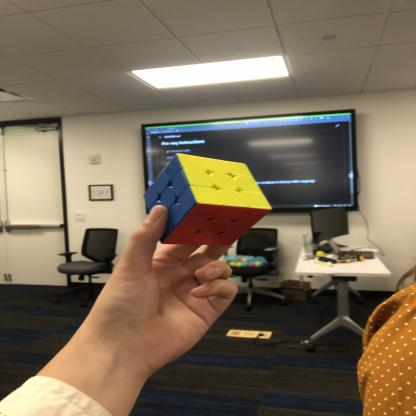SolvedCube: (142, 152, 272, 247)
